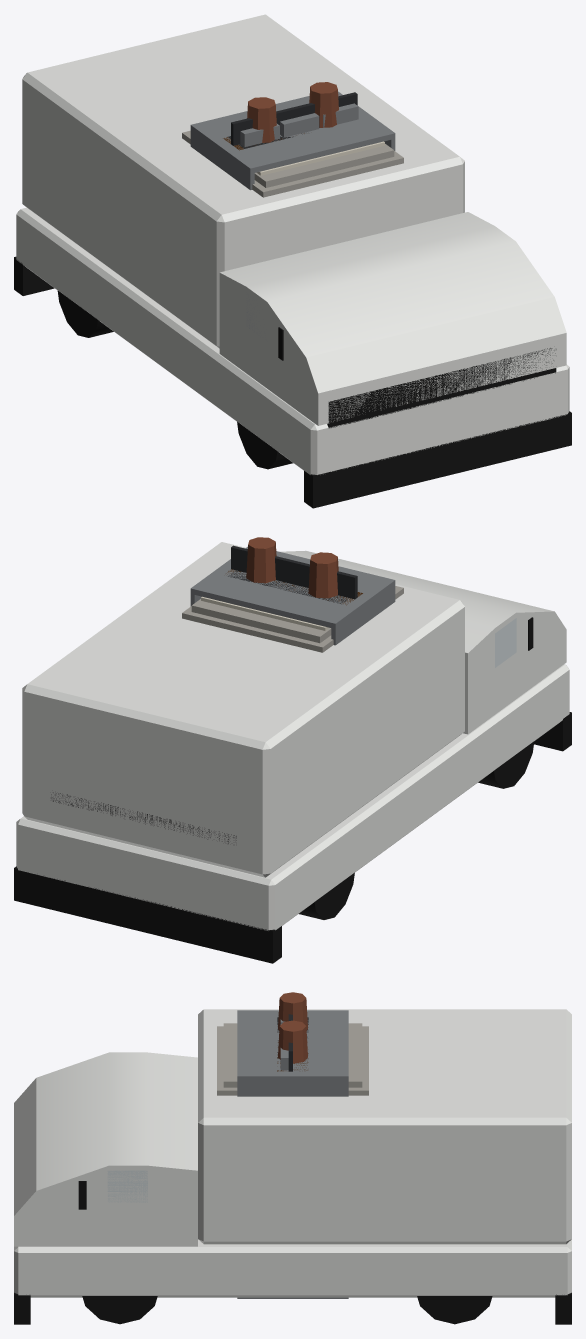
File: hero-s5.glb
3 renders of one model, top to bottom at view 1: azimuth 30°, elevation 25°; view 2: azimuth 150°, elevation 25°; view 3: azimuth 270°, elevation 25°, orthographic. The views are drawn at different scales.
Parts seen in each view (by area): view 1: panelVan.carPaint4, panelVan.tyre, rollingStack.steel, chimneyStack.concrete, chimneyStack.brick, depositFace.steel, depositFace.steelDark, rollingStack.paper; view 2: panelVan.carPaint4, panelVan.tyre, rollingStack.steel, chimneyStack.concrete, chimneyStack.brick, depositFace.steelDark, panelVan.glass, rollingStack.paper, radioRackRow.steelDark; view 3: panelVan.carPaint4, rollingStack.steel, panelVan.tyre, chimneyStack.concrete, chimneyStack.brick, panelVan.glass.
Boxes of the visible parts, box(x1,y1,x2,y2) form: panelVan.carPaint4: box(16, 14, 569, 474); panelVan.tyre: box(14, 256, 571, 508); rollingStack.steel: box(190, 91, 395, 190); chimneyStack.concrete: box(182, 130, 403, 197); chimneyStack.brick: box(247, 82, 338, 142); depositFace.steel: box(240, 103, 358, 146); depositFace.steelDark: box(231, 92, 357, 145); rollingStack.paper: box(256, 141, 384, 175); panelVan.carPaint4: box(16, 542, 569, 930); panelVan.tyre: box(14, 617, 571, 963); rollingStack.steel: box(190, 546, 395, 645); chimneyStack.concrete: box(182, 586, 403, 652); chimneyStack.brick: box(246, 537, 338, 598); depositFace.steelDark: box(231, 545, 357, 599); panelVan.glass: box(495, 618, 516, 667); rollingStack.paper: box(201, 596, 329, 630); radioRackRow.steelDark: box(228, 570, 347, 604); panelVan.carPaint4: box(14, 1009, 571, 1297); rollingStack.steel: box(237, 1010, 348, 1298); panelVan.tyre: box(14, 1181, 571, 1324); chimneyStack.concrete: box(217, 1023, 368, 1095); chimneyStack.brick: box(278, 992, 307, 1063); panelVan.glass: box(107, 1170, 147, 1202).
Size of the model in its own units: 2.5 by 2.51 by 5.
